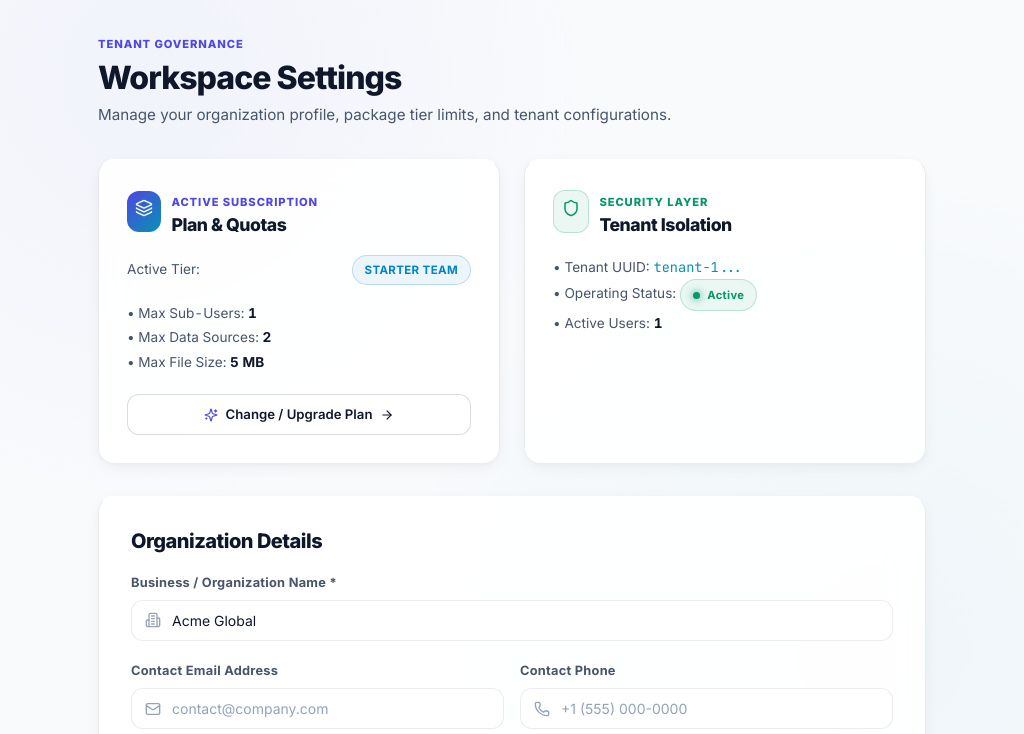
Scenario: TenantSettingsPage Component › submits updated organization details and displays success message
Replace the text in the field with test id "business-name-setting-input" with "Acme Enterprise Inc" at (512, 620), box [131,600,893,641]
(page scrolled)
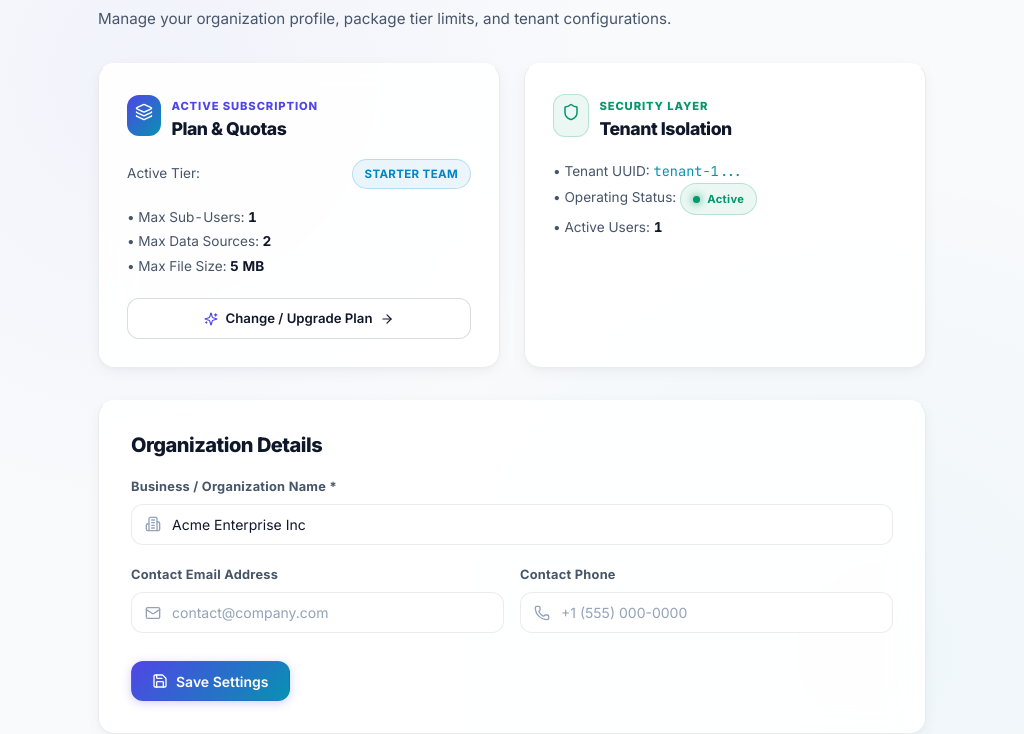
Click the button with test id "save-settings-btn" at (210, 681), box [131,661,290,701]
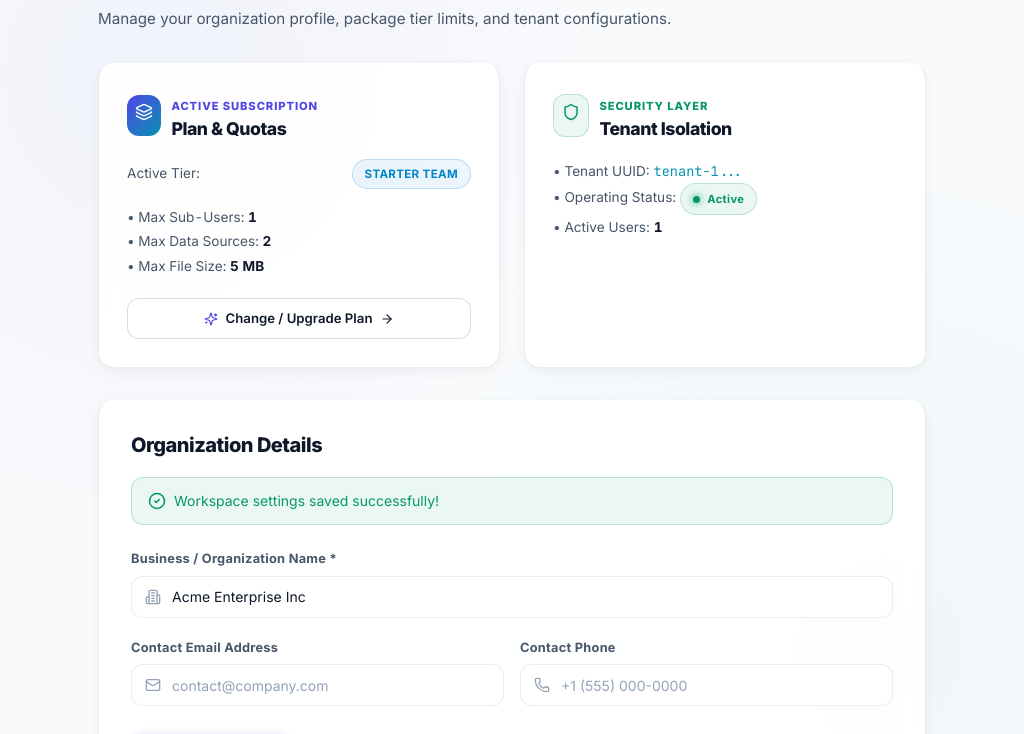
Expected: the element with test id "settings-success-alert" shows "settings saved successfully", [174,492,439,509]
